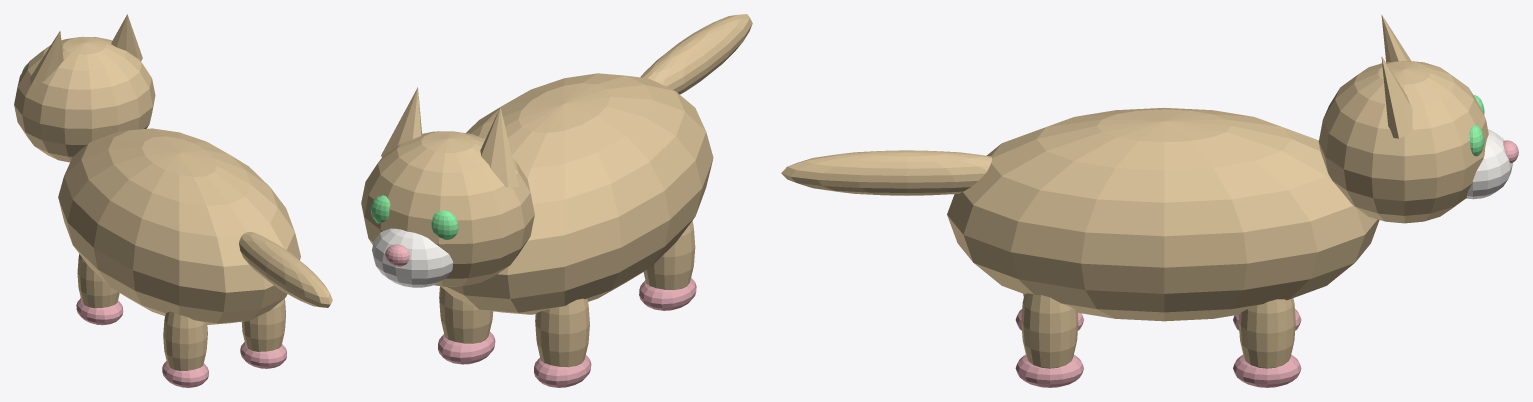
Rendered from player_cat.glb.
3 views of the same model, side by side, from view 1: azimuth 30°, elevation 25°; view 2: azimuth 150°, elevation 25°; view 3: azimuth 270°, elevation 25° (orthographic). The views are drawn at different scales.
Visible parts, largest first — view 1: Cat; view 2: Cat; view 3: Cat.
Boxes of the visible parts, left/top/right/bottom form: Cat: left=14, top=14, right=332, bottom=387; Cat: left=361, top=14, right=752, bottom=387; Cat: left=781, top=14, right=1518, bottom=387.
Bounding box in the file's own units: 0.3369 × 0.48 × 0.9878.
